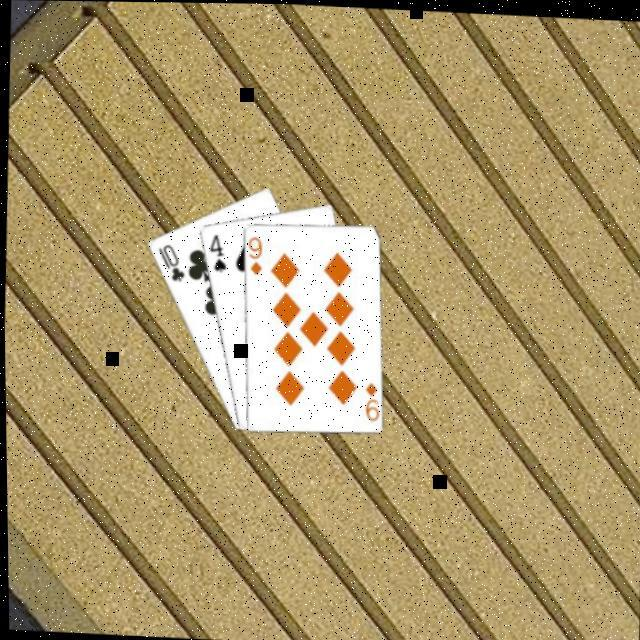10C: (154, 238, 189, 282)
4S: (206, 228, 230, 272)
9D: (244, 230, 266, 276), (360, 376, 382, 420)
